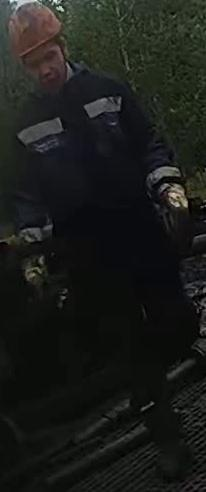gloves: (8, 232, 71, 311), (145, 171, 195, 256)
helmet: (6, 0, 64, 62)
vest: (6, 70, 173, 285)
